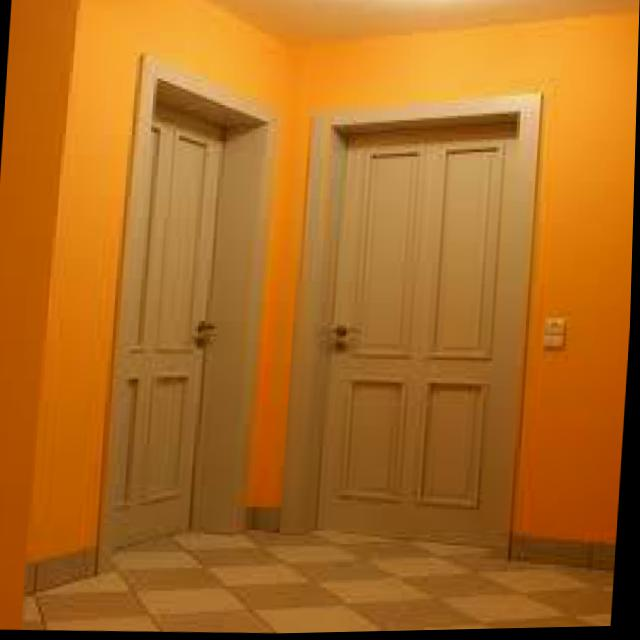close: (270, 69, 564, 584), (69, 31, 284, 583)
